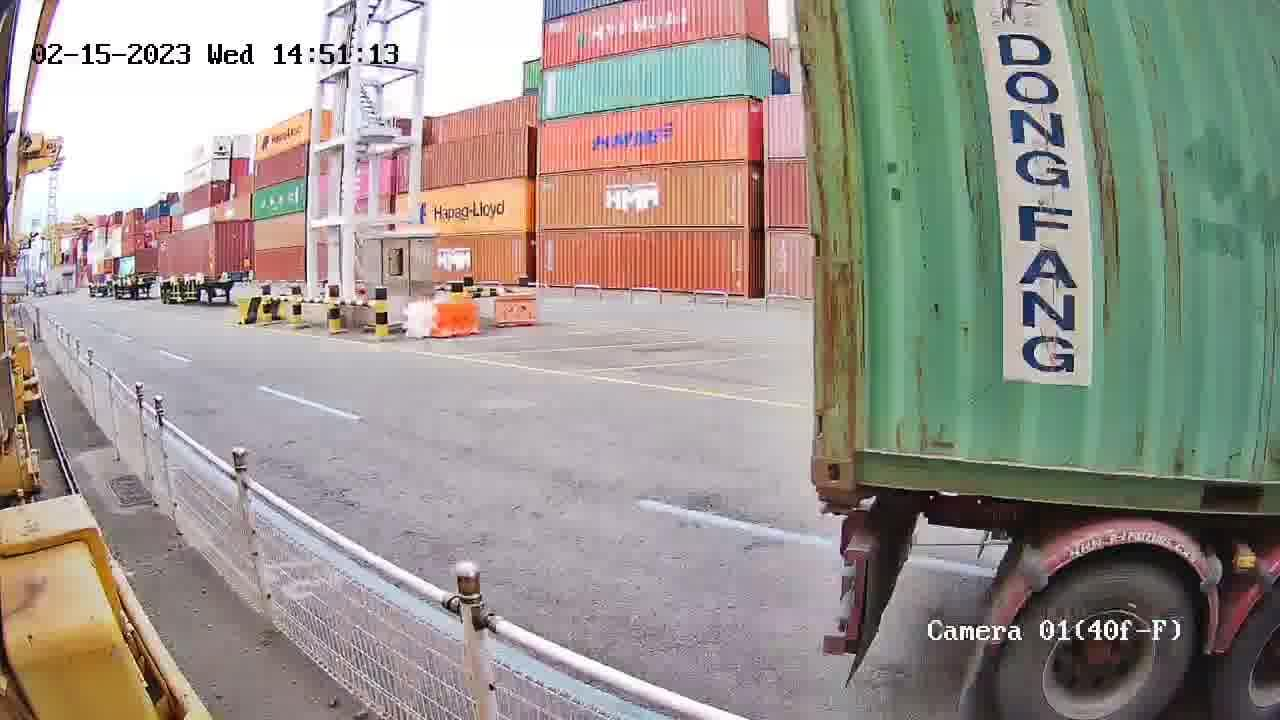Cone: (815, 490, 853, 518)
Hole_L: (814, 417, 894, 487)
Tire: (1001, 559, 1194, 715), (1219, 589, 1279, 719)
